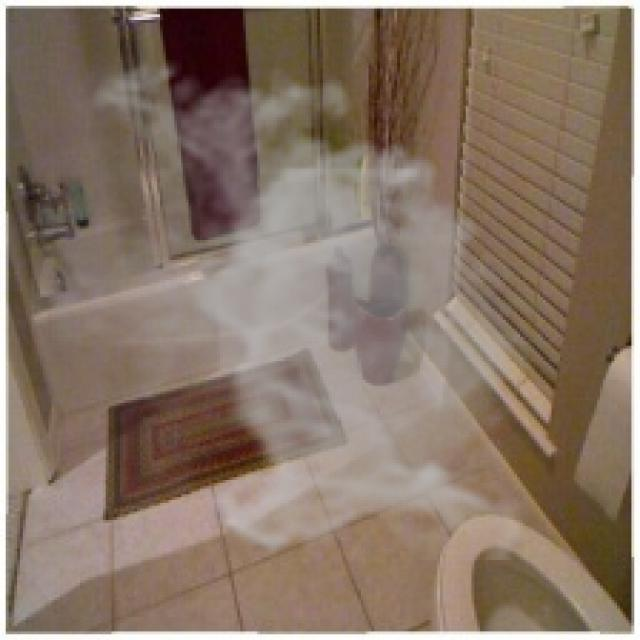Smoke: (31, 46, 552, 560)
